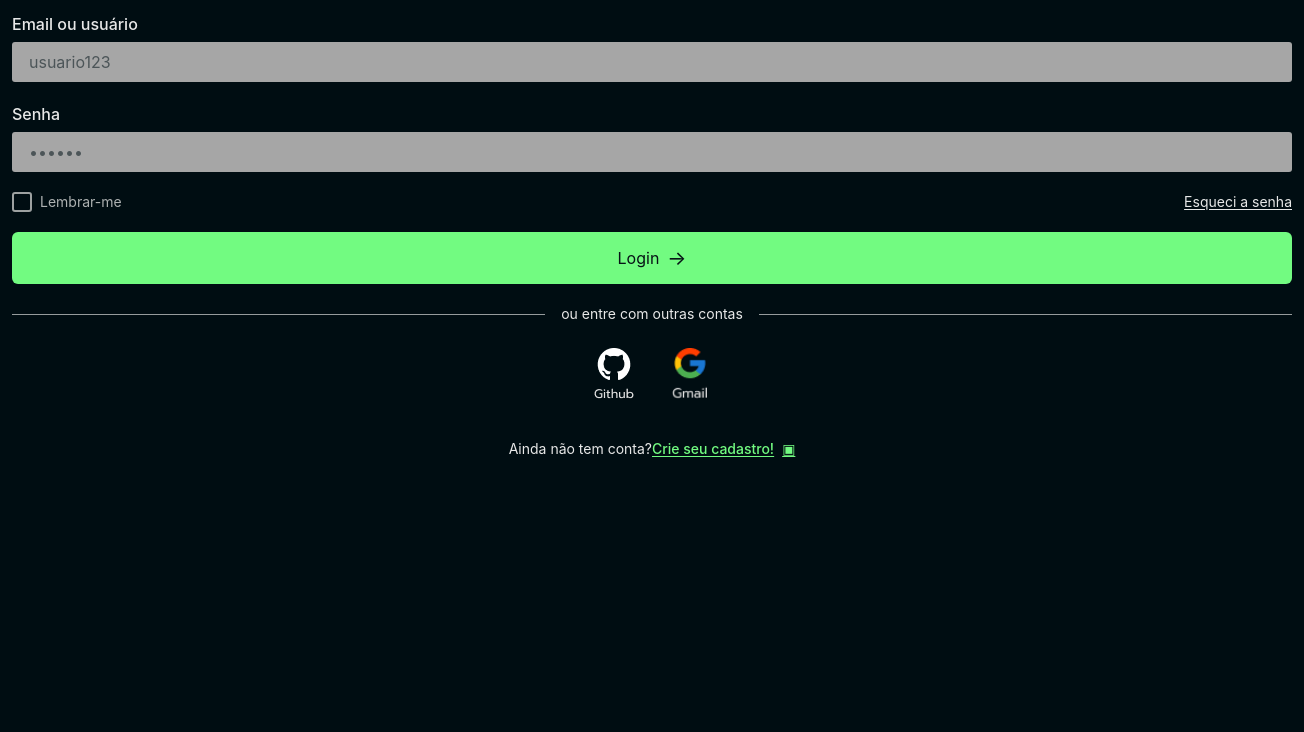
it: LoginForm › shows required field errors after an empty submission
What coordinates should you click on to do the following:
click the button "Login →"
I would click on:
 (652, 258)
Its box is [12, 232, 1292, 284].
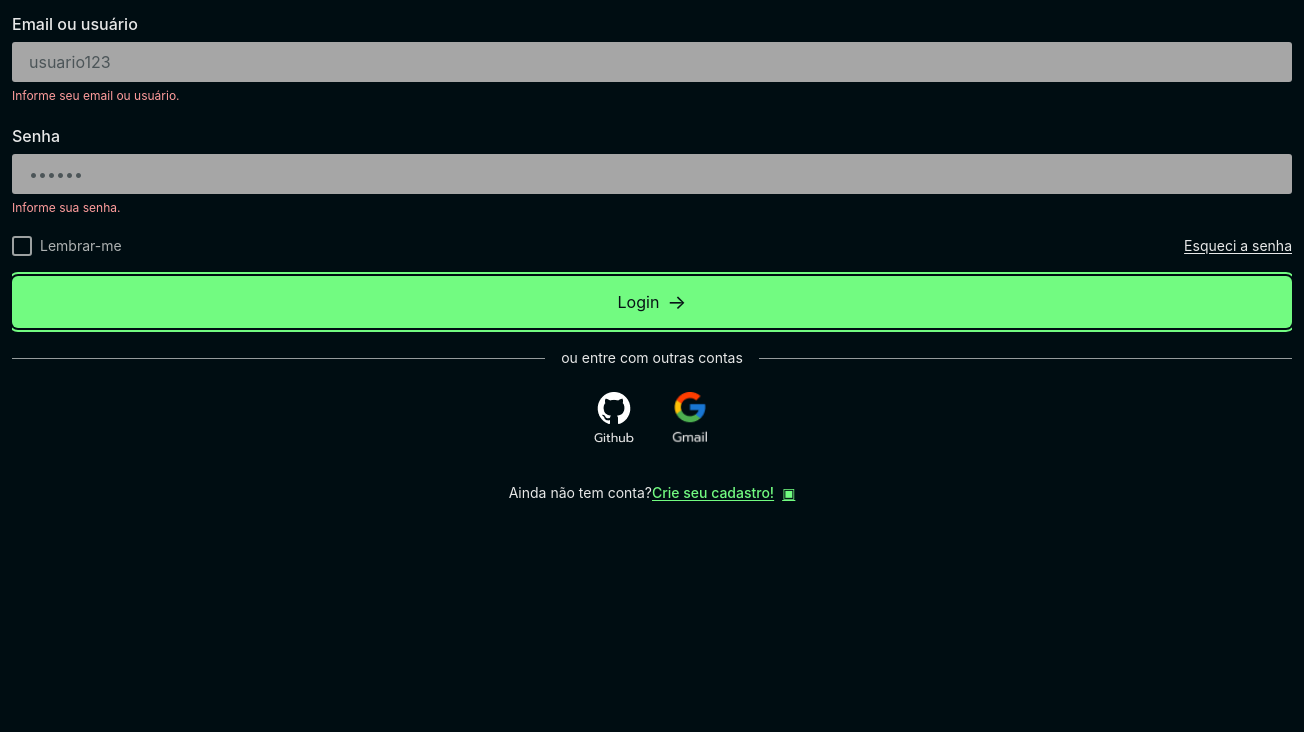
Result: the text "Informe seu email ou usuário." is shown at [12, 88, 180, 103]
Result: the text "Informe sua senha." is shown at [12, 200, 120, 215]
